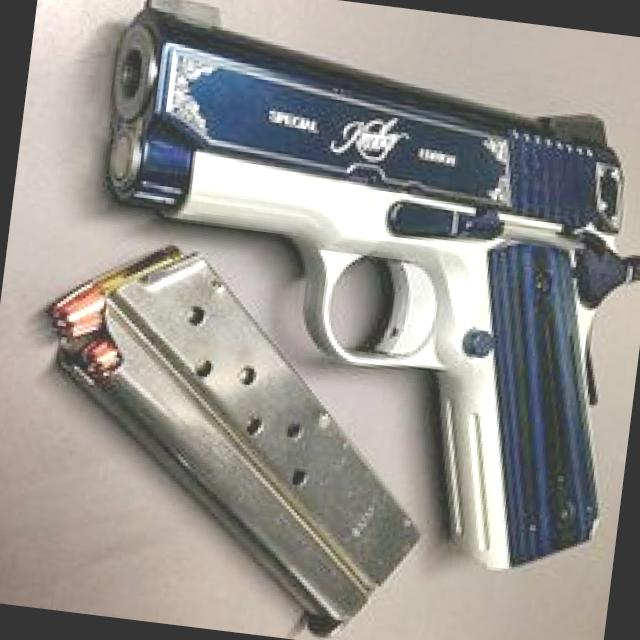semi automatic: (45, 0, 640, 613)
